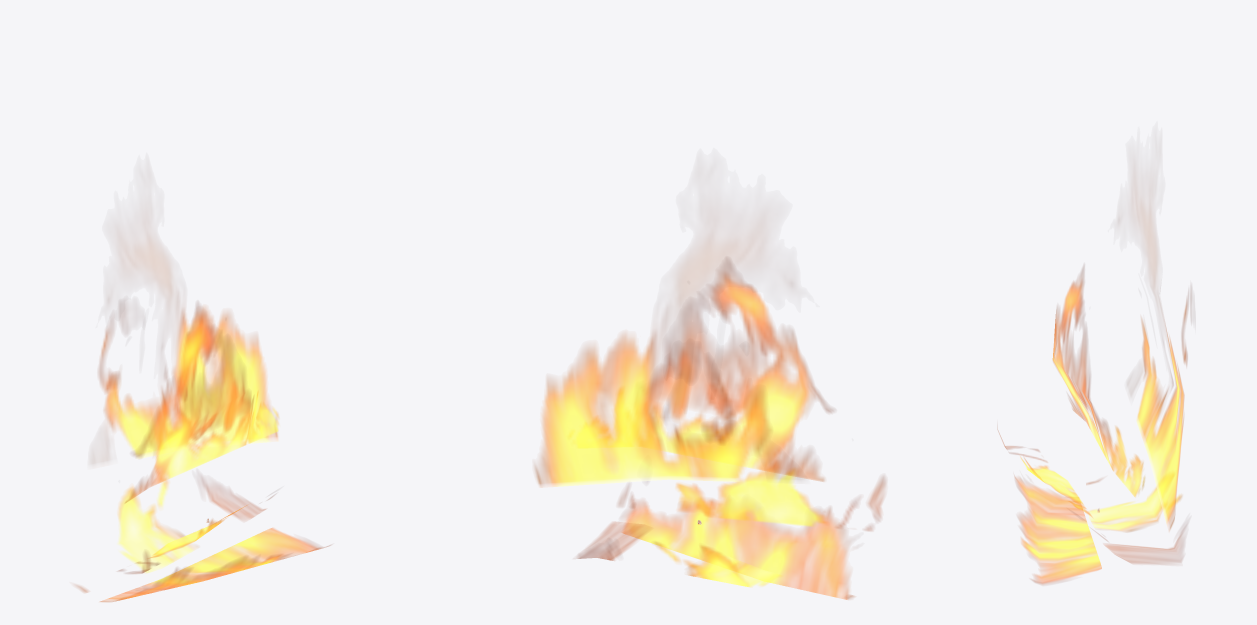
The model's file is animated_fire.glb.
The picture shows the model from 3 angles, left to right: view 1: azimuth 30°, elevation 25°; view 2: azimuth 150°, elevation 25°; view 3: azimuth 270°, elevation 25°; orthographic projection. The views are drawn at different scales.
Parts seen in each view (by area): view 1: Feu01; view 2: Feu01; view 3: Feu01.
Boxes of the visible parts, box(x1,y1,x2,y2) form: Feu01: box(76, 238, 330, 601); Feu01: box(535, 238, 885, 599); Feu01: box(998, 201, 1191, 584).
Bounding box in the file's own units: 0.7356 × 1.02 × 0.4362.
Materials: 1 (1 with a texture image).
